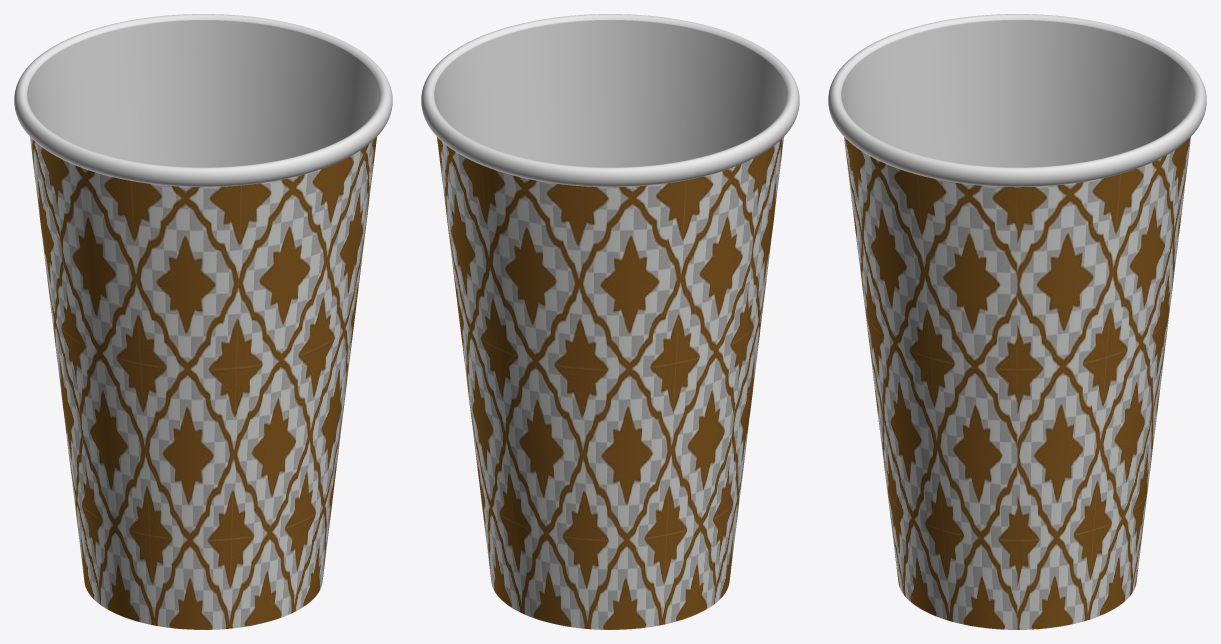
3 renders of one model, left to right at view 1: azimuth 30°, elevation 25°; view 2: azimuth 150°, elevation 25°; view 3: azimuth 270°, elevation 25°, orthographic.
Visible parts, largest first — view 1: Part 1, Part 2; view 2: Part 1, Part 2; view 3: Part 1, Part 2.
Part boxes in pixels (left/top/right/bottom): Part 1: left=30, top=137, right=376, bottom=629; Part 2: left=14, top=14, right=392, bottom=187; Part 1: left=437, top=137, right=783, bottom=629; Part 2: left=421, top=14, right=799, bottom=187; Part 1: left=844, top=137, right=1190, bottom=629; Part 2: left=828, top=14, right=1206, bottom=187.
Size of the model in its own units: 0.105 by 0.1494 by 0.105.
2 materials, 1 textured.
